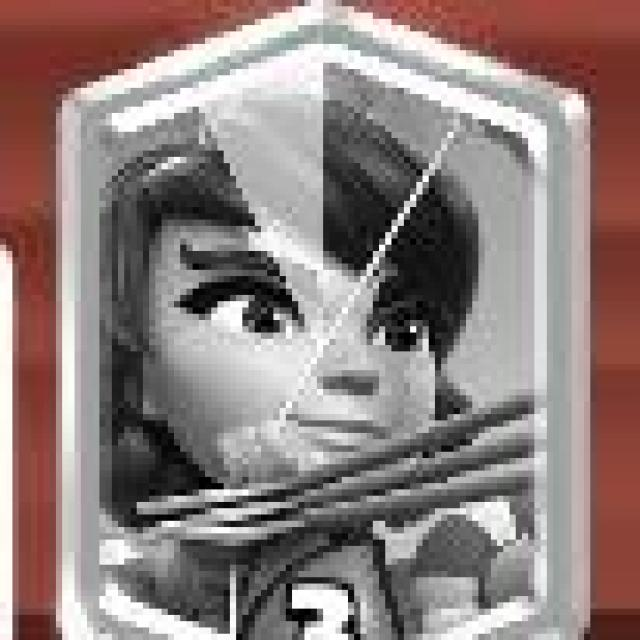Princess: (55, 0, 577, 640)
